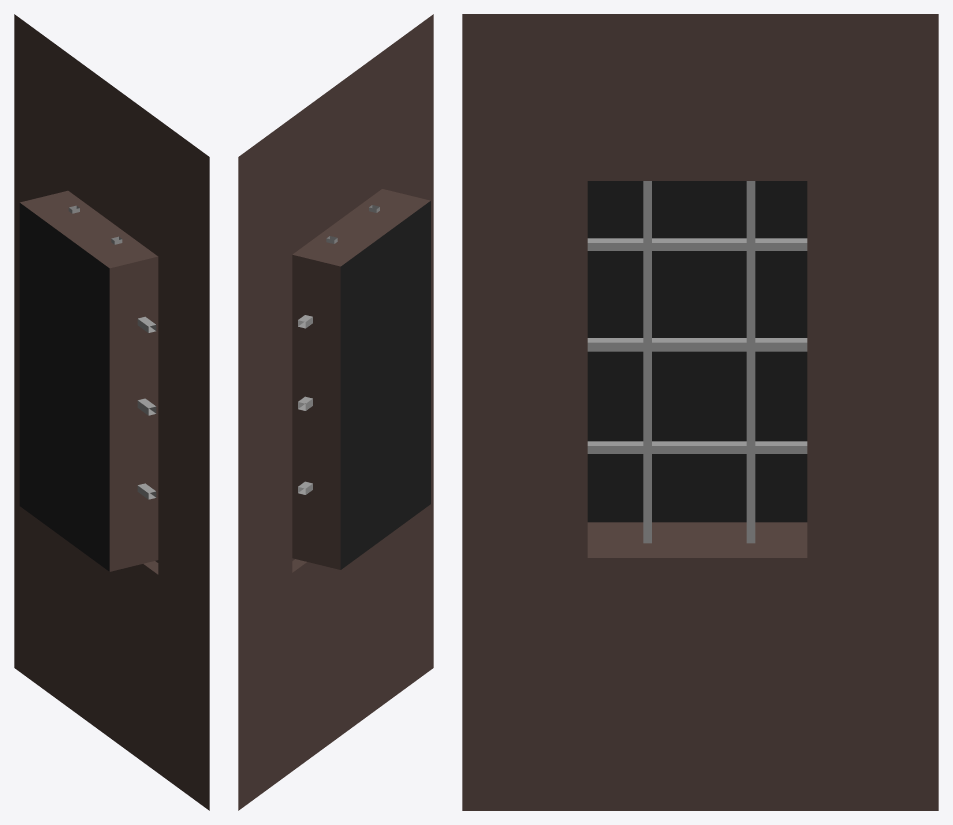
File: houseWall_1.fbx
The picture shows the model from 3 angles, left to right: view 1: azimuth 30°, elevation 25°; view 2: azimuth 150°, elevation 25°; view 3: azimuth 270°, elevation 25°; orthographic projection. The views are drawn at different scales.
Visible parts, largest first — view 1: houseWall_1; view 2: houseWall_1; view 3: houseWall_1.
Part boxes in pixels (box(x1,y1,x2,y2)): houseWall_1: box(14, 14, 209, 810); houseWall_1: box(238, 14, 433, 810); houseWall_1: box(462, 14, 938, 810).
Size of the model in its own units: 46.45 by 480 by 260.
